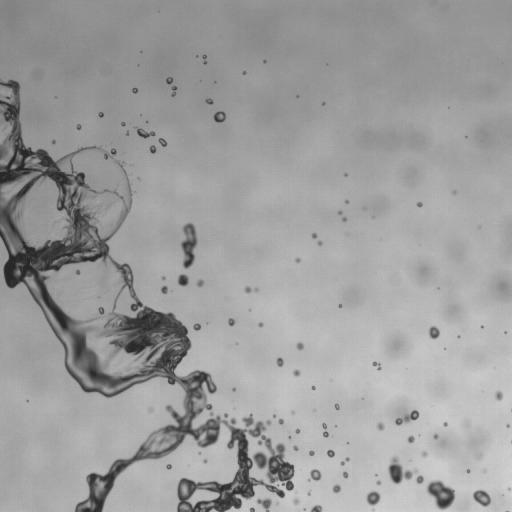droplet: (426, 480, 455, 510), (387, 456, 418, 484), (472, 489, 491, 506), (366, 491, 380, 505), (256, 498, 271, 511), (428, 326, 439, 339), (308, 469, 321, 480), (213, 111, 225, 122), (177, 274, 188, 286), (372, 362, 381, 370), (494, 391, 502, 400), (332, 484, 340, 493), (310, 505, 322, 511), (158, 138, 166, 146), (296, 342, 304, 350), (276, 357, 283, 366), (149, 145, 156, 153), (244, 286, 252, 293), (228, 318, 235, 326), (193, 323, 201, 330), (293, 369, 300, 377), (377, 422, 384, 430), (407, 435, 414, 443), (416, 475, 423, 483), (327, 450, 334, 457), (197, 279, 203, 287), (166, 77, 172, 84), (161, 286, 167, 293), (293, 498, 299, 505), (421, 451, 427, 457), (342, 472, 348, 478), (206, 99, 212, 104), (476, 454, 482, 459), (132, 88, 137, 93), (98, 112, 103, 117), (76, 124, 81, 129), (317, 240, 322, 245), (258, 322, 263, 327), (148, 407, 153, 412), (278, 419, 283, 424), (465, 421, 470, 426), (433, 434, 438, 439), (293, 445, 298, 450), (309, 450, 314, 455), (166, 464, 171, 469), (417, 202, 422, 206), (312, 233, 316, 238), (295, 258, 300, 262), (75, 270, 80, 274), (335, 404, 339, 409), (295, 429, 300, 433), (376, 480, 380, 485), (121, 122, 125, 126), (342, 217, 346, 221), (291, 410, 295, 414), (443, 422, 447, 426), (203, 459, 207, 463), (466, 469, 470, 473), (250, 507, 254, 511), (97, 294, 100, 298), (311, 386, 315, 389), (52, 140, 55, 143), (345, 200, 348, 203), (508, 487, 511, 490), (308, 490, 310, 494), (339, 211, 341, 214), (162, 276, 164, 279), (255, 288, 257, 291), (288, 436, 291, 438), (243, 72, 245, 74), (126, 132, 128, 134), (453, 191, 455, 193), (103, 275, 105, 277), (233, 388, 235, 390), (273, 415, 275, 417), (507, 424, 509, 426)
ligament: (0, 79, 294, 511), (181, 222, 197, 268), (395, 410, 419, 425), (136, 128, 154, 138), (322, 423, 328, 437), (340, 457, 349, 465), (171, 86, 176, 96), (203, 55, 206, 63)
